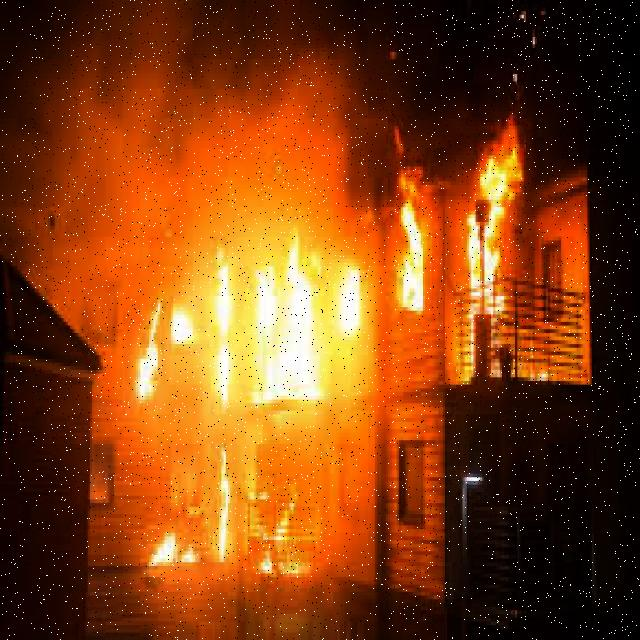fire: (136, 262, 348, 567), (460, 122, 530, 324), (386, 163, 436, 323)
